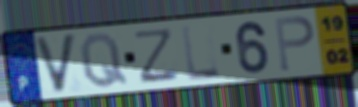6: (233, 19, 272, 75)
L: (179, 23, 223, 83)
P: (272, 14, 317, 74)
Q: (78, 32, 130, 91)
V: (32, 31, 79, 96)
Z: (134, 26, 179, 85)
